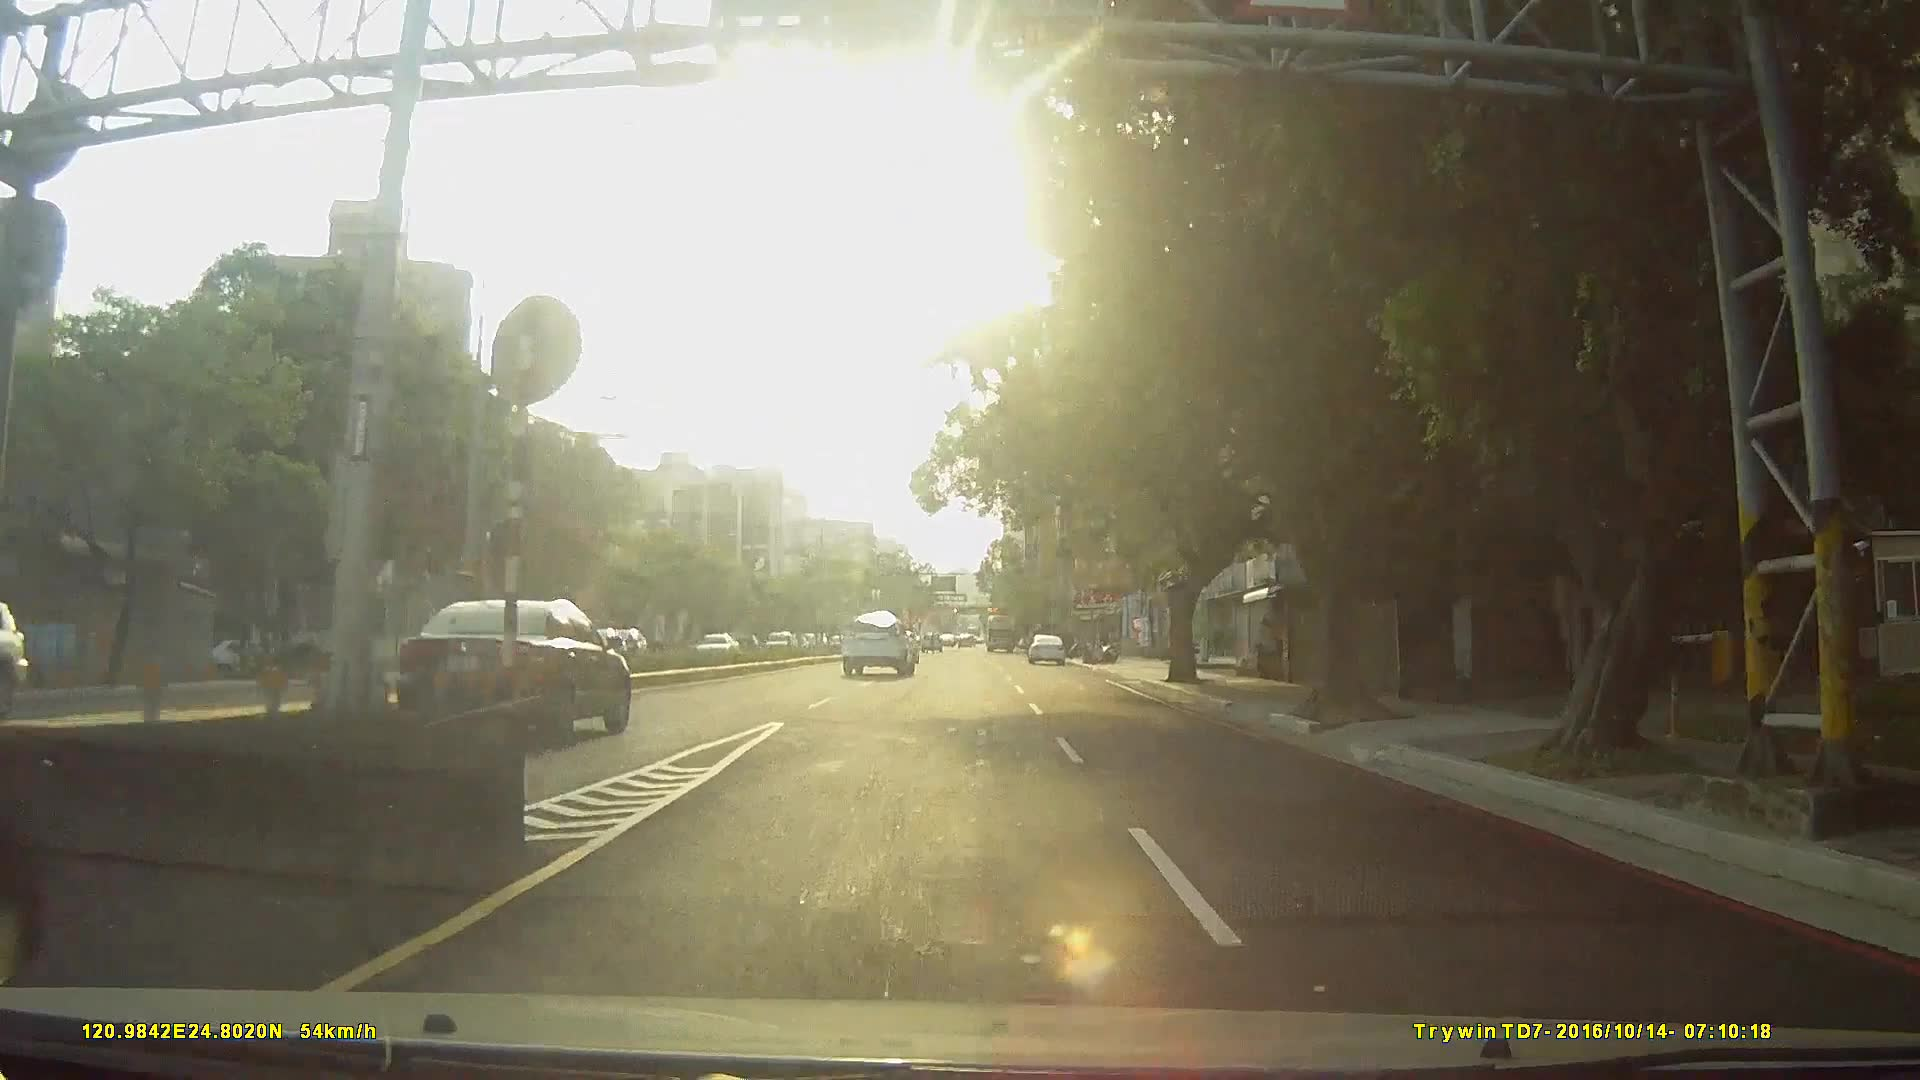pedestrian: (338, 623, 363, 677)
vehicle: (396, 594, 633, 738), (839, 608, 916, 675), (1026, 631, 1068, 666), (982, 611, 1016, 653)
